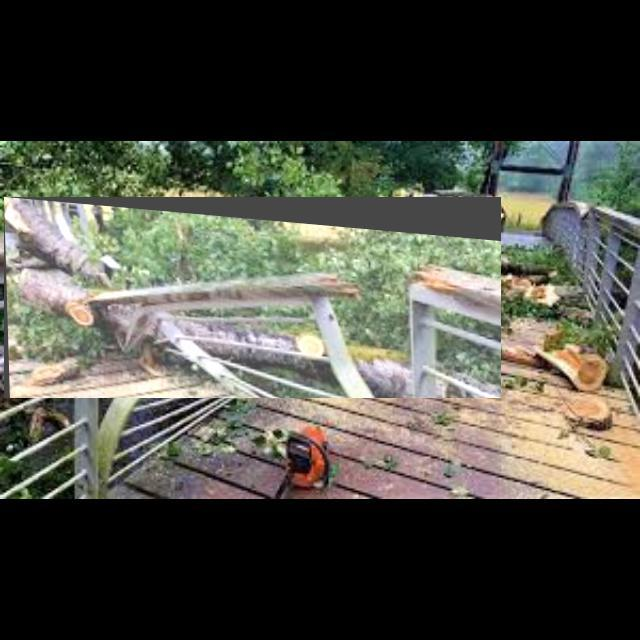fallen_tree: (4, 197, 502, 399)
